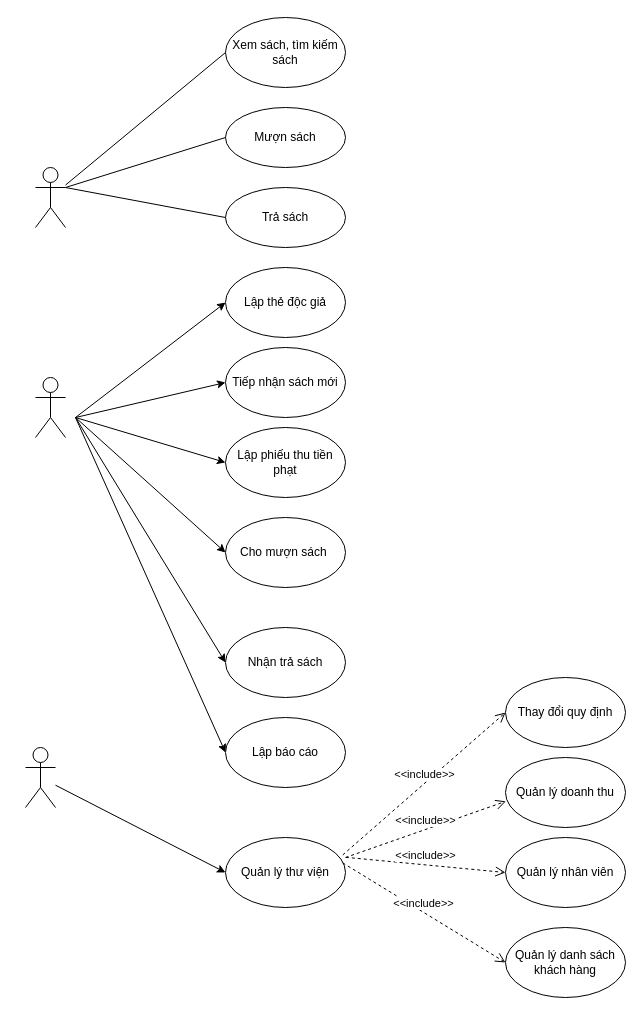
The diagram is 643 pixels wide and 1015 high, and some of its shapes have lost their labels. The shapes that lost their labels are listed below. From the top down, each one's centre as x and y in pixels, then its label:
At point (50, 197): "customer".
At point (50, 407): "staff".
At point (40, 777): "manager".
